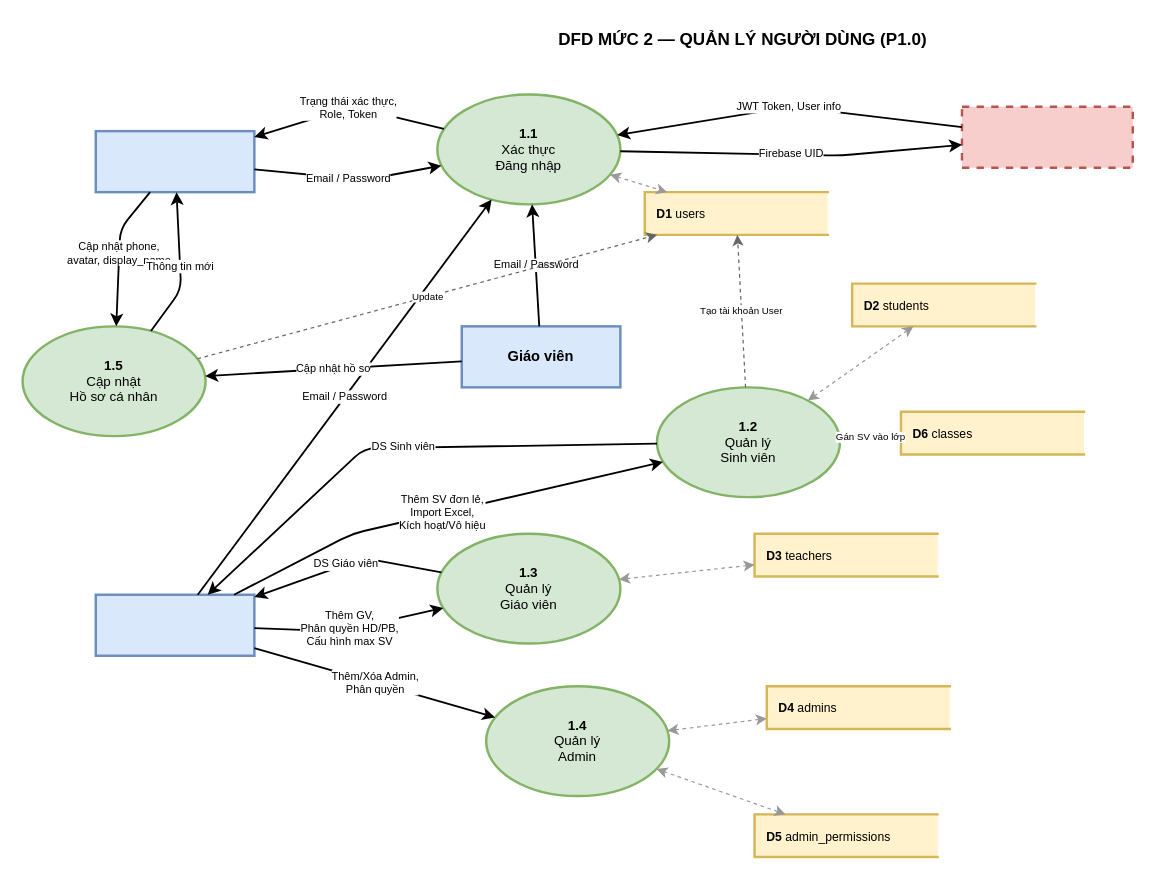
This 1154x878 diagram has some shape labels left out. Each missing label, with the box of its shape:
Admin: (94, 593, 255, 656)
Firebase Auth (External): (960, 105, 1133, 168)
Sinh viên: (94, 129, 255, 193)
